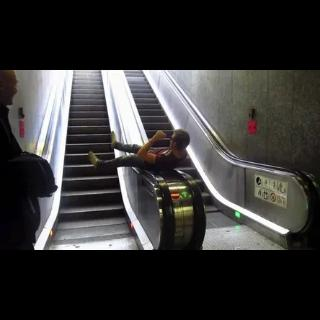anomaly: (88, 128, 190, 174)
normal: (0, 72, 58, 250)
